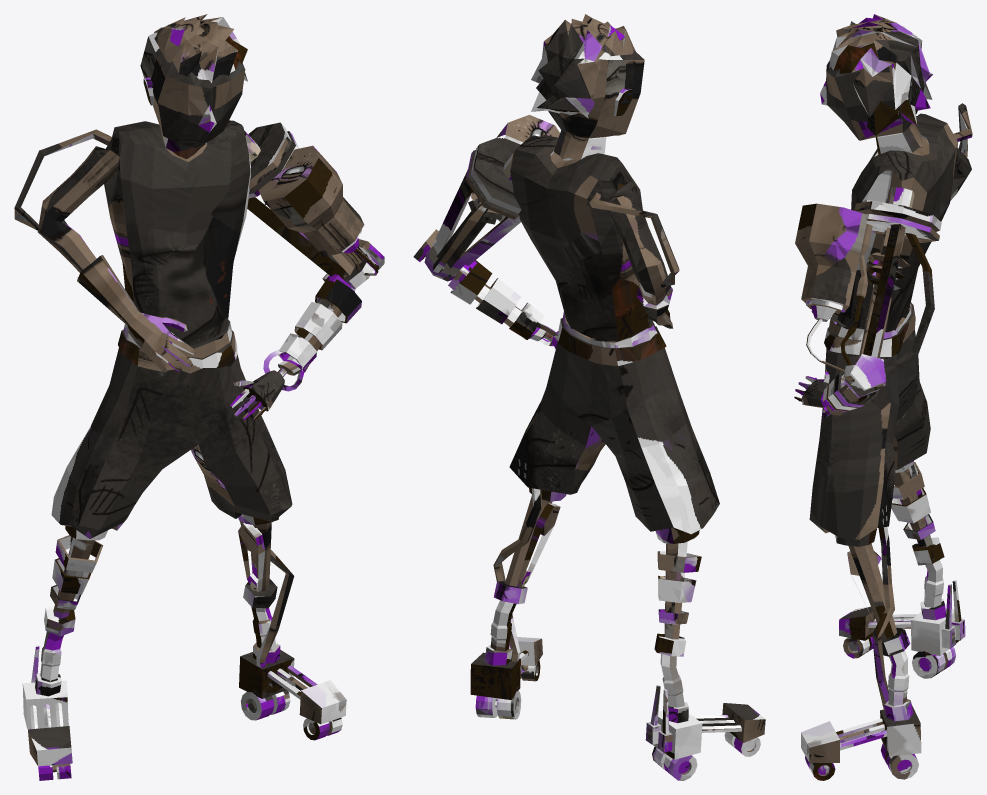
Rendered from CyborgFINALAnimation_000038.obj.
The picture shows the model from 3 angles, left to right: view 1: azimuth 30°, elevation 25°; view 2: azimuth 150°, elevation 25°; view 3: azimuth 270°, elevation 25°; orthographic projection. The views are drawn at different scales.
Visible parts, largest first — view 1: CyborgMesh_Cube.002; view 2: CyborgMesh_Cube.002; view 3: CyborgMesh_Cube.002.
Boxes of the visible parts, bbox=[...] form: CyborgMesh_Cube.002: bbox=[14, 14, 384, 780]; CyborgMesh_Cube.002: bbox=[413, 14, 765, 780]; CyborgMesh_Cube.002: bbox=[794, 14, 972, 780].
Size of the model in its own units: 4.87 by 9.6 by 2.18.
